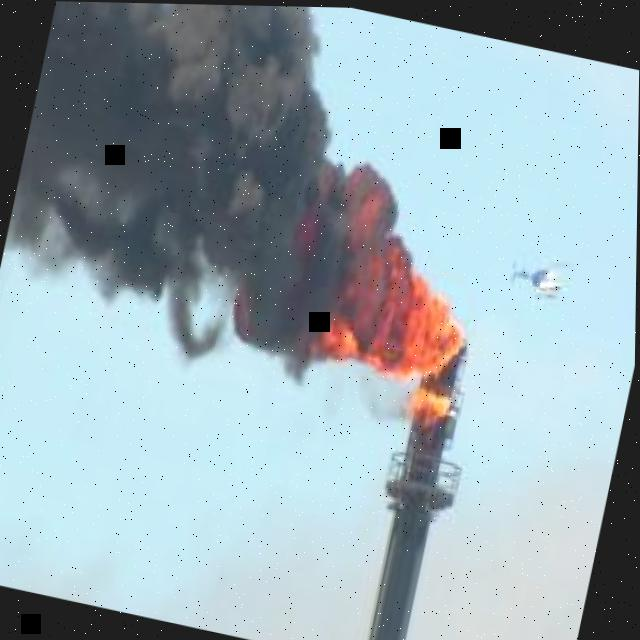fire: (316, 231, 468, 379), (405, 389, 452, 426)
smoke: (5, 1, 400, 379), (164, 270, 237, 358), (361, 372, 415, 420)
